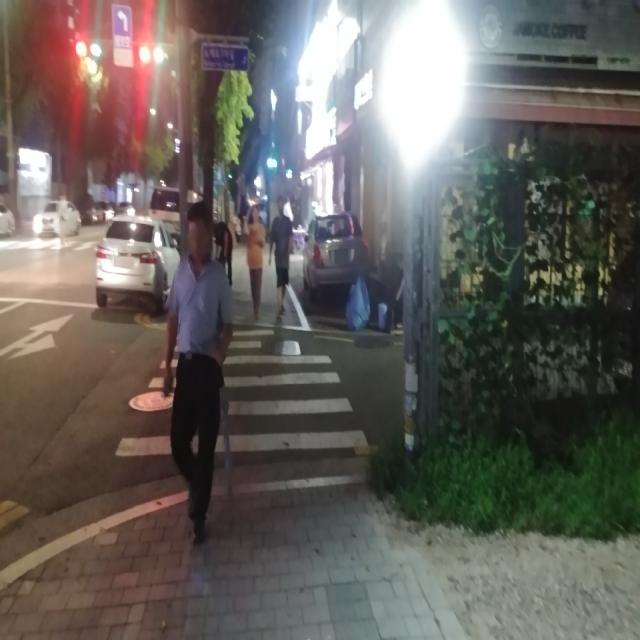횡단보도: (114, 328, 371, 461)
